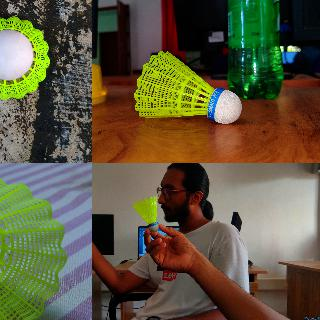shuttlecock: (0, 177, 67, 319), (134, 50, 240, 124), (0, 15, 50, 99), (132, 196, 158, 230)
